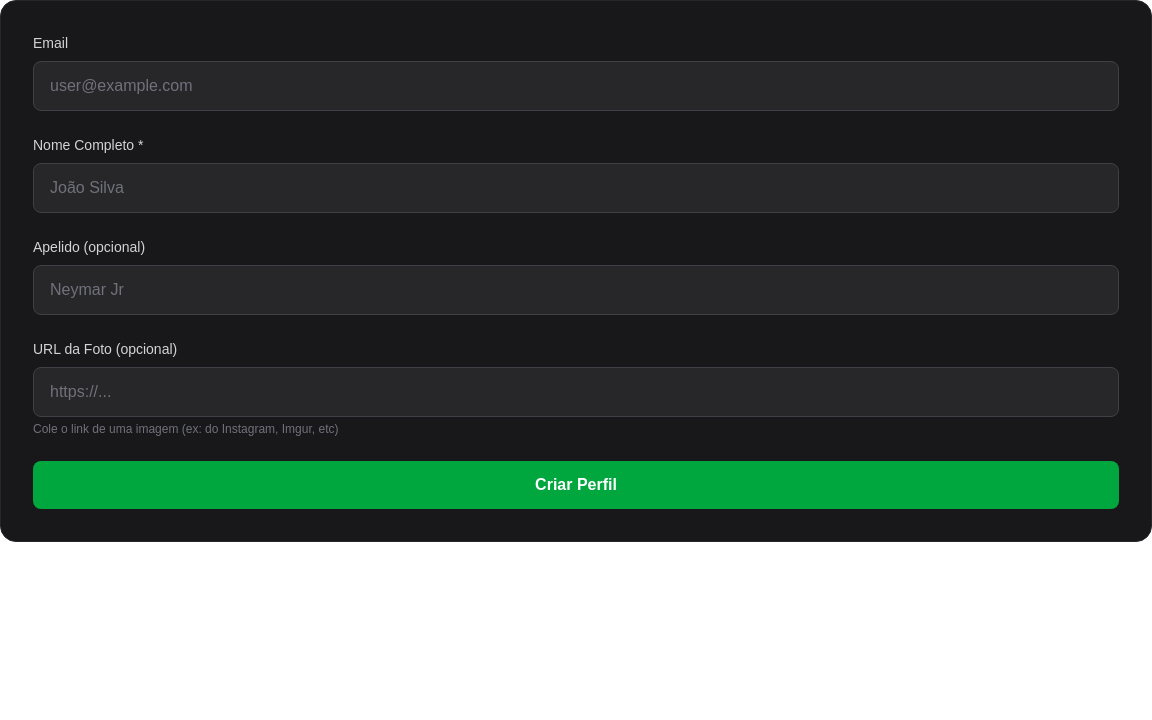
it: PerfilForm › mostra estado de carregamento e sucesso
Type "Ana Silva" into the field labelled "Nome Completo *" at (576, 188), box [33,163,1119,213]
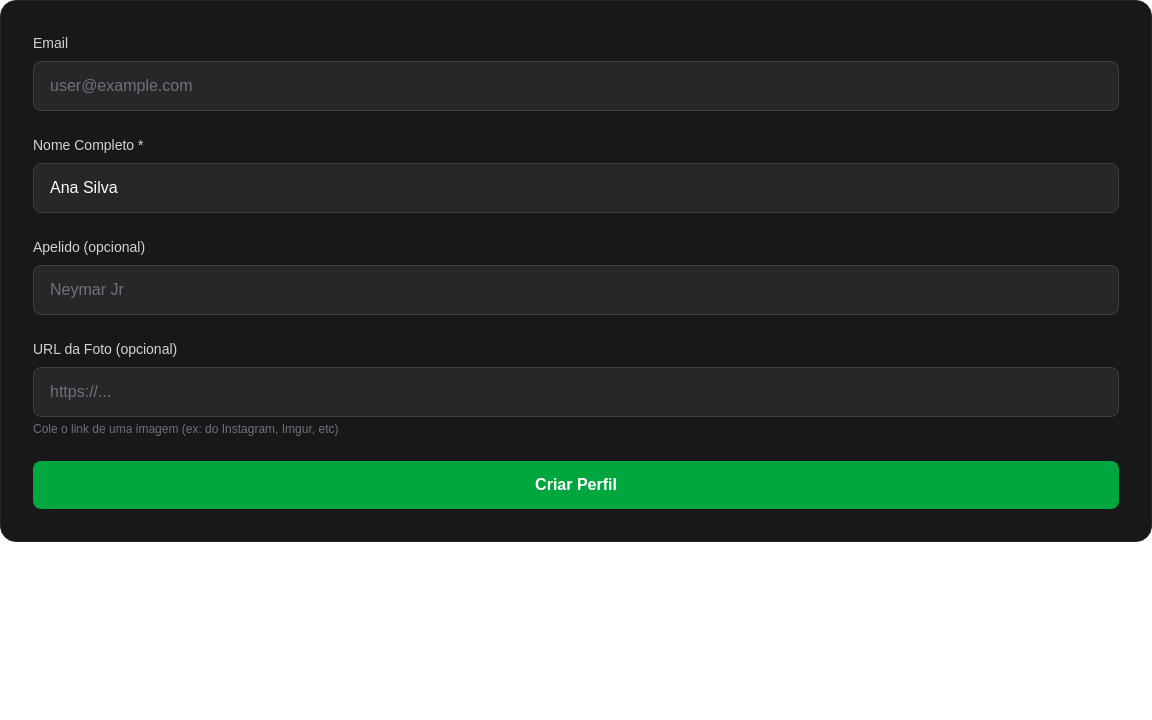
Click the button "Criar Perfil" at (576, 485), box [33,461,1119,509]
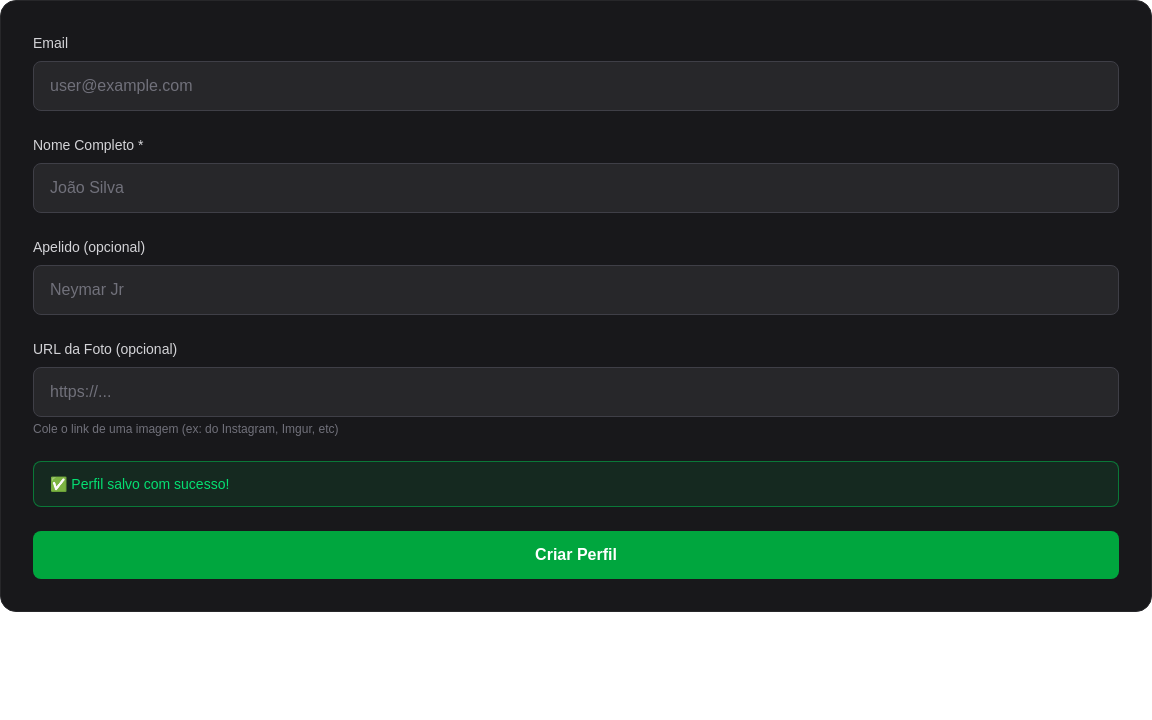
Expected: the text "✅ Perfil salvo com sucesso!" is shown, [33,461,1119,507]
